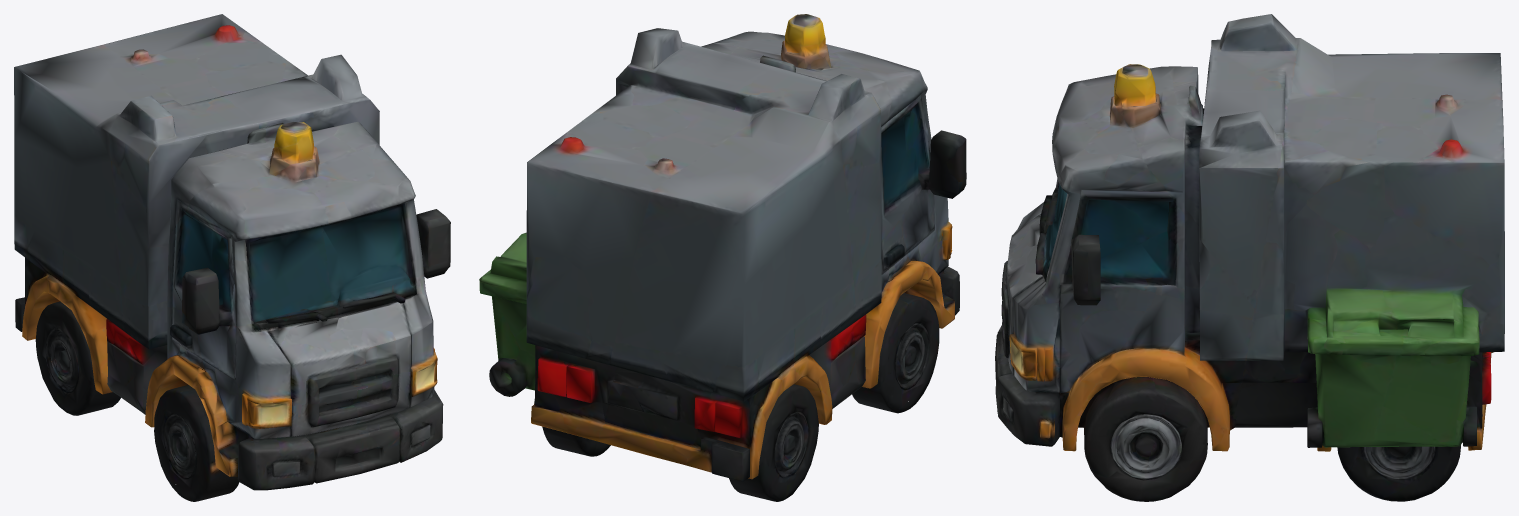
Rendered from smieciarka.glb.
3 views of the same model, side by side, from view 1: azimuth 30°, elevation 25°; view 2: azimuth 150°, elevation 25°; view 3: azimuth 270°, elevation 25° (orthographic). The views are drawn at different scales.
Visible parts, largest first — view 1: tripo_node_49b5ac8a-e7c0-4bac-bc34-aac501803311; view 2: tripo_node_49b5ac8a-e7c0-4bac-bc34-aac501803311; view 3: tripo_node_49b5ac8a-e7c0-4bac-bc34-aac501803311.
Boxes of the visible parts, x1,y1,x2,y2 form: tripo_node_49b5ac8a-e7c0-4bac-bc34-aac501803311: (14, 14, 450, 501); tripo_node_49b5ac8a-e7c0-4bac-bc34-aac501803311: (479, 14, 966, 501); tripo_node_49b5ac8a-e7c0-4bac-bc34-aac501803311: (995, 14, 1504, 501).
Bounding box in the file's own units: 0.6981 × 0.8072 × 0.9797.
1 material, 1 textured.
